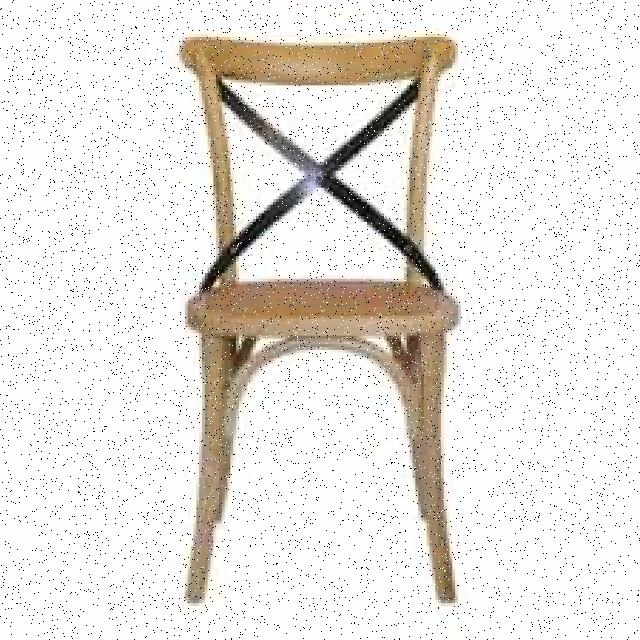bottle: (172, 22, 473, 614)
